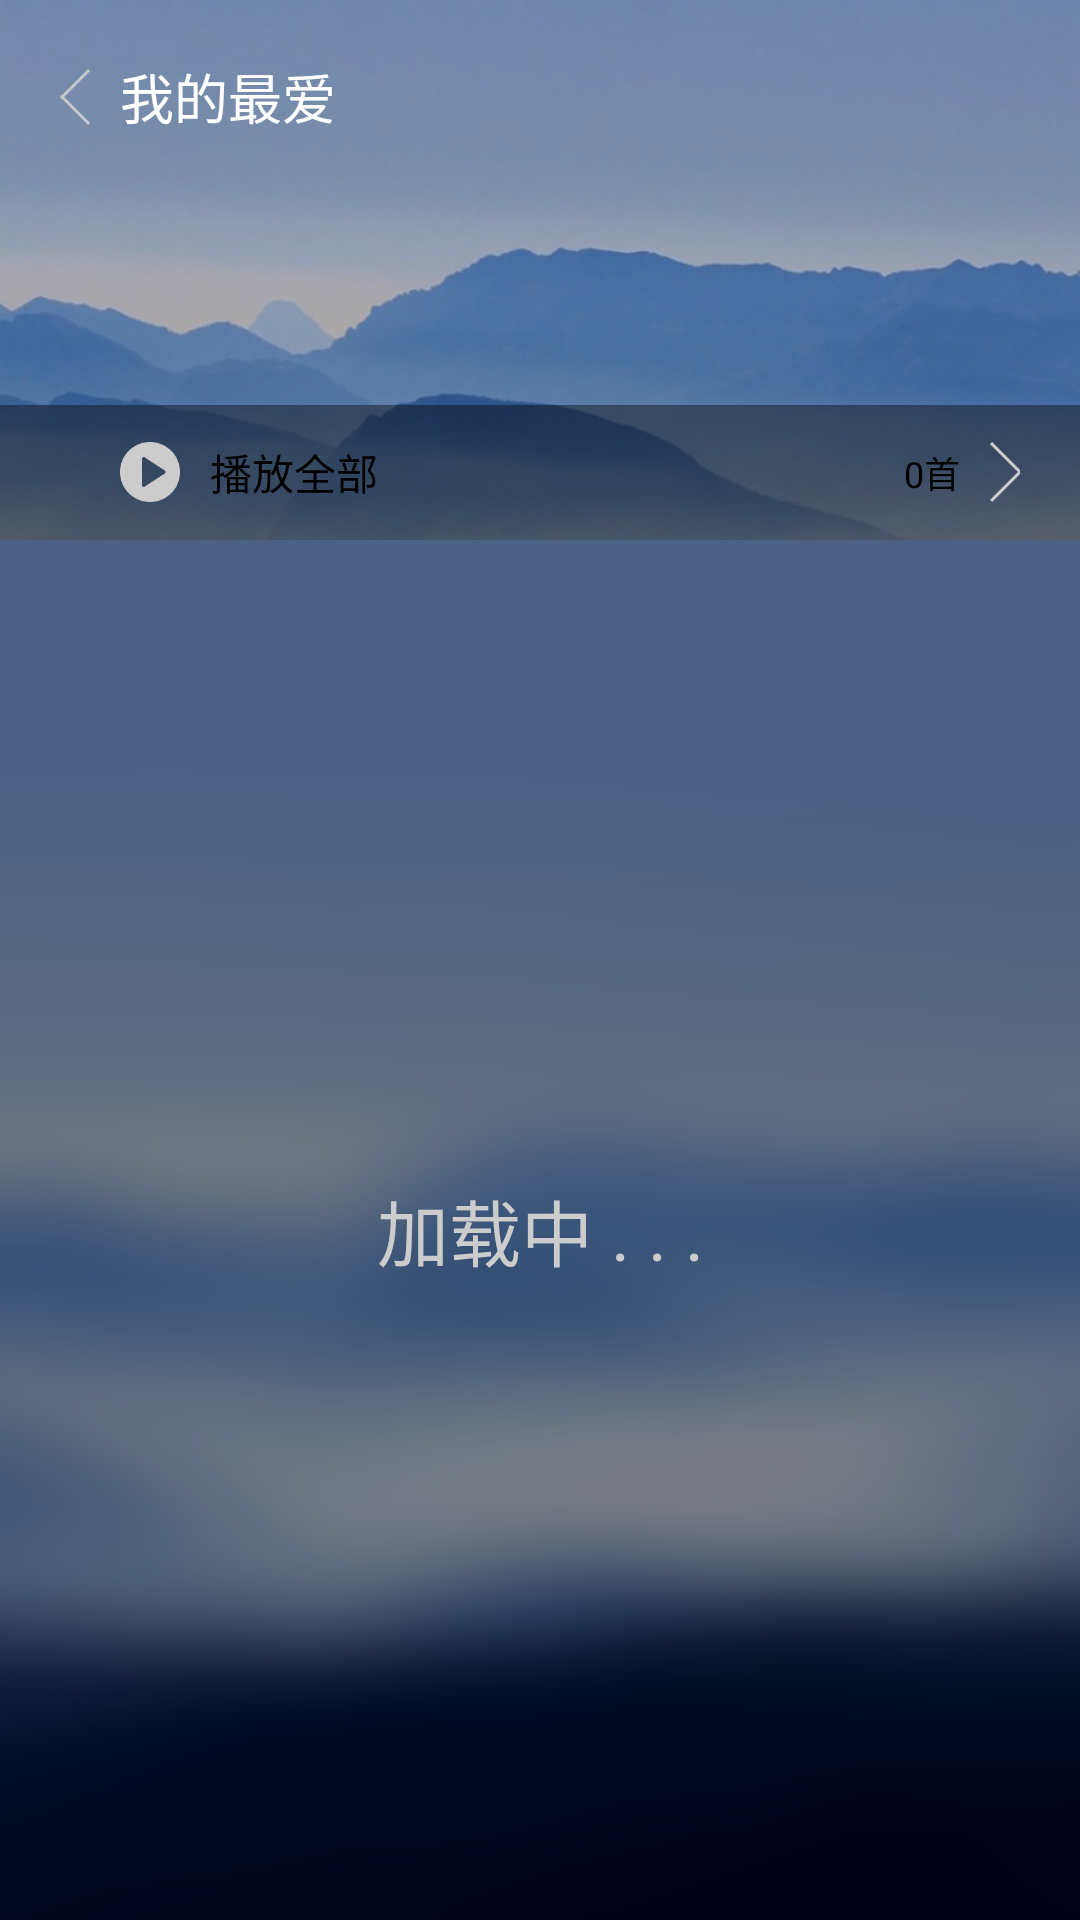

Icon click points for this 1080px x 1920px phone screenshot, format point (x, y):
back: point (75, 97)
favor start: point (150, 472)
